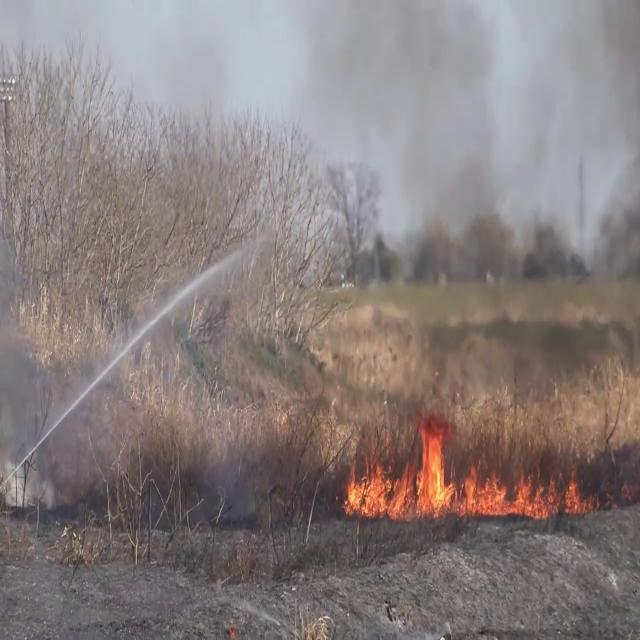Fire: (341, 422, 589, 524)
Smoke: (284, 0, 640, 310)
